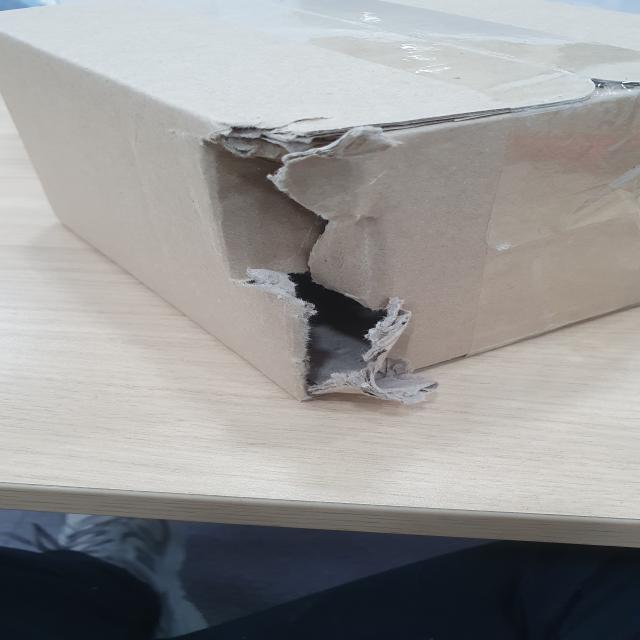hole: (169, 119, 389, 253), (257, 255, 437, 403)
